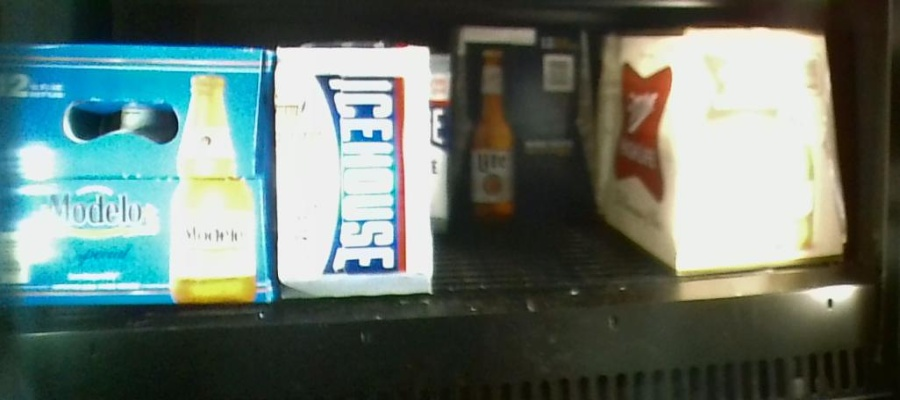bottle: (1, 44, 277, 303), (603, 29, 843, 267), (277, 44, 435, 294), (453, 31, 593, 220)
